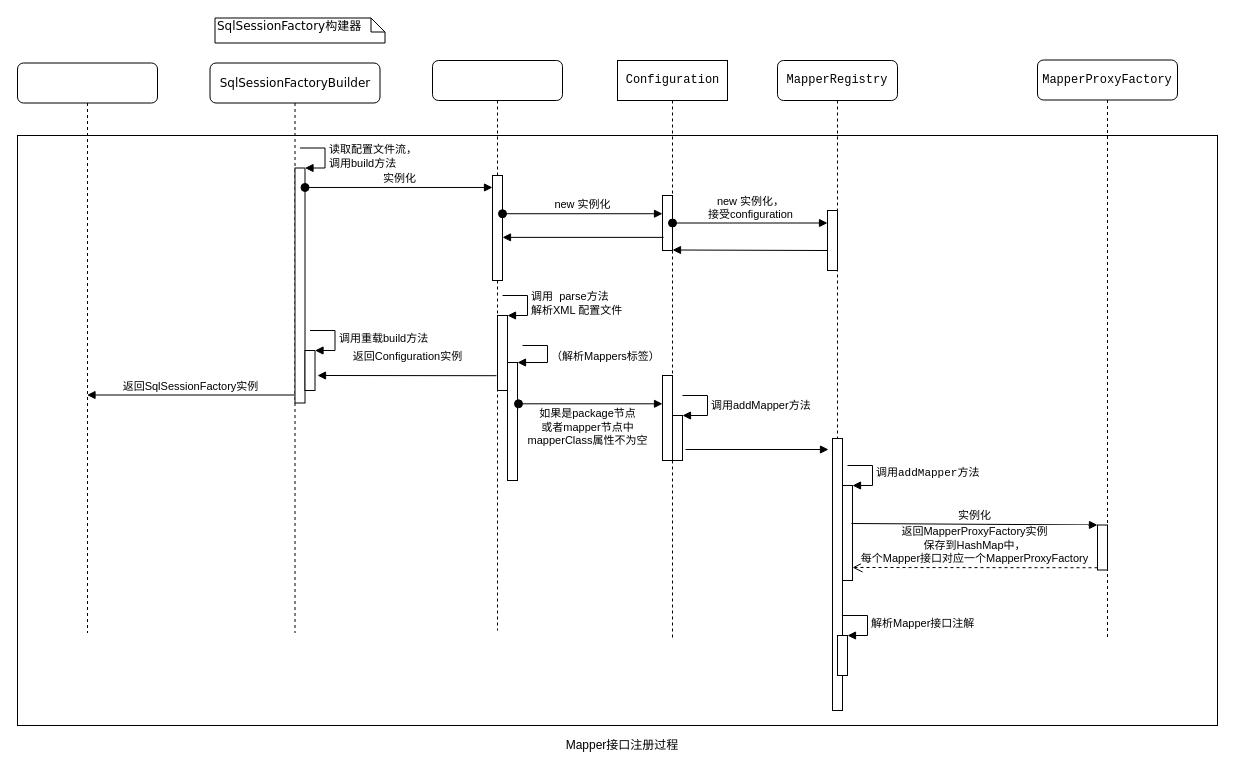
Image size: 1235x772. Some labels were removed from this diagram. Each missing label, with the box of its shape:
SqlSessionFactory: (16, 62, 158, 633)
XMLConfigBuilder: (432, 60, 562, 630)
